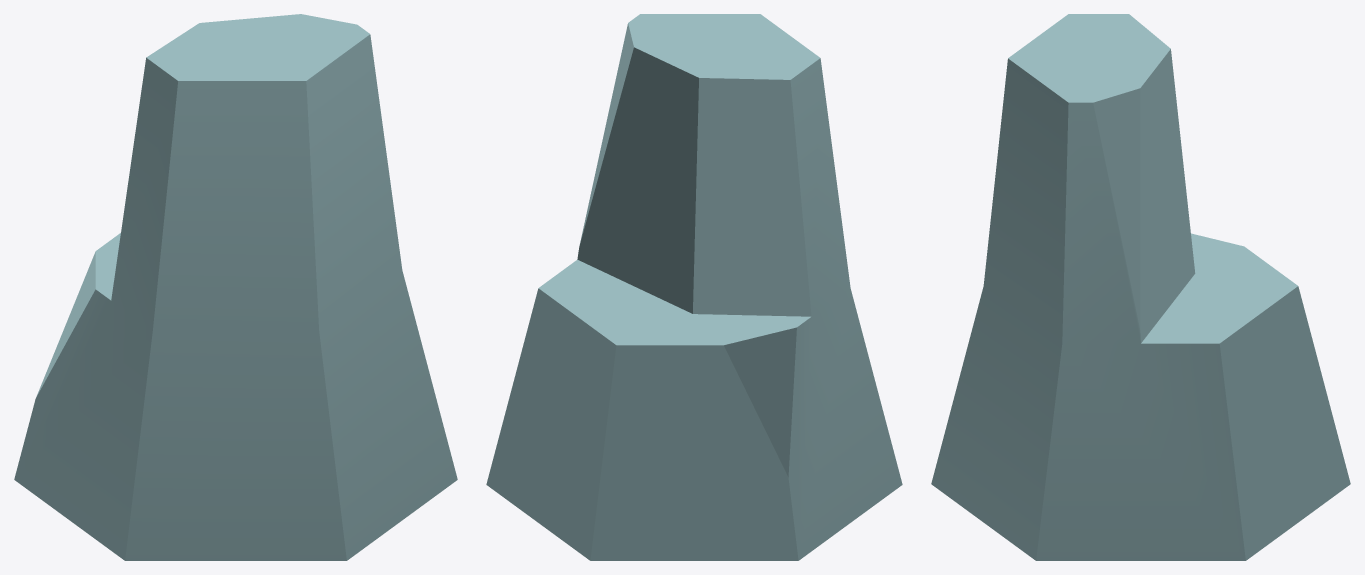
Rendered from stone_tall6.obj.
The picture shows the model from 3 angles, left to right: view 1: azimuth 30°, elevation 25°; view 2: azimuth 150°, elevation 25°; view 3: azimuth 270°, elevation 25°; orthographic projection. The views are drawn at different scales.
Parts seen in each view (by area): view 1: stone_tall6; view 2: stone_tall6; view 3: stone_tall6.
Boxes of the visible parts, x1,y1,x2,y2 form: stone_tall6: (14,14,457,560); stone_tall6: (486,14,902,560); stone_tall6: (931,14,1350,560).
Size of the model in its own units: 4.44 by 5.74 by 5.12.
